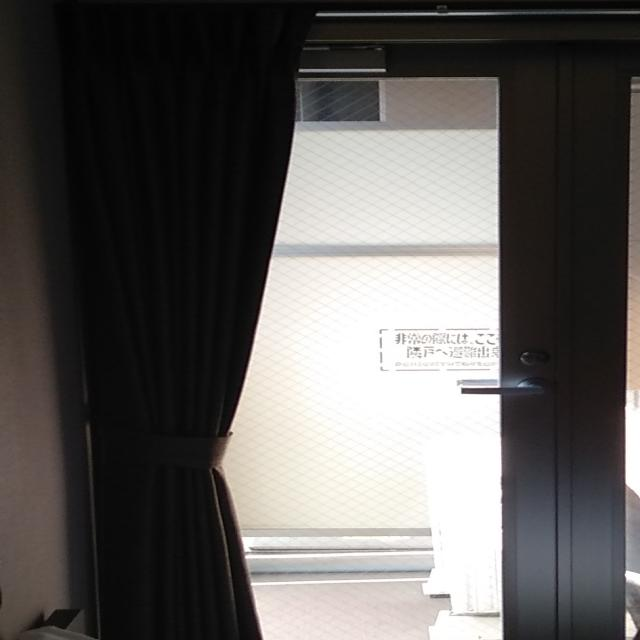door-handle: (462, 378, 548, 395)
